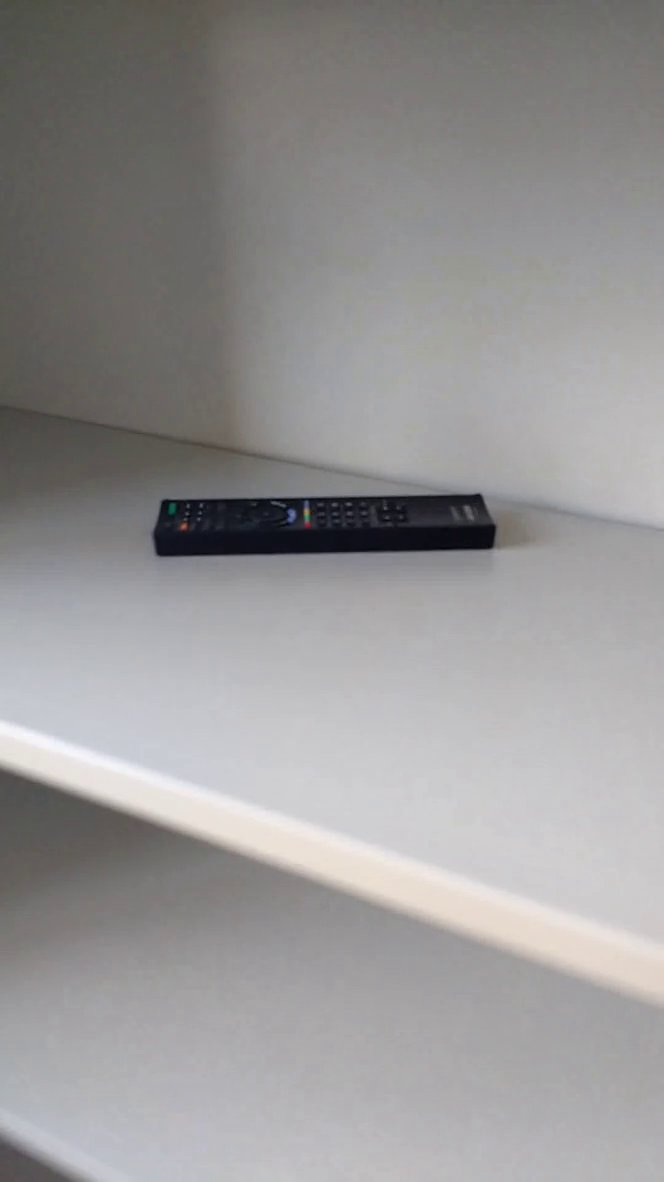remote: (147, 468, 507, 589)
